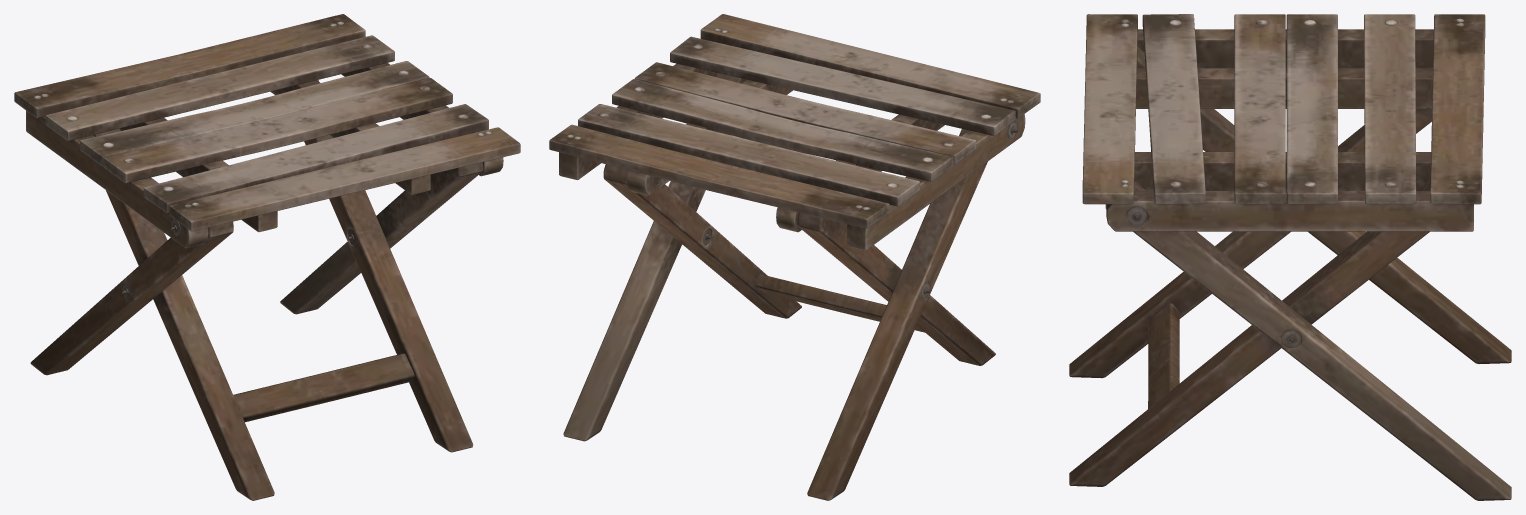
The model's file is folding_wooden_stool.glb.
3 renders of one model, left to right at view 1: azimuth 30°, elevation 25°; view 2: azimuth 150°, elevation 25°; view 3: azimuth 270°, elevation 25°, orthographic. The views are drawn at different scales.
Parts seen in each view (by area): view 1: folding_wooden_stool; view 2: folding_wooden_stool; view 3: folding_wooden_stool.
Boxes of the visible parts, box(x1,y1,x2,y2) form: folding_wooden_stool: box(14, 14, 520, 500); folding_wooden_stool: box(549, 14, 1040, 500); folding_wooden_stool: box(1069, 14, 1511, 500).
Size of the model in its own units: 0.5278 by 0.442 by 0.5471.
1 material, 1 textured.
